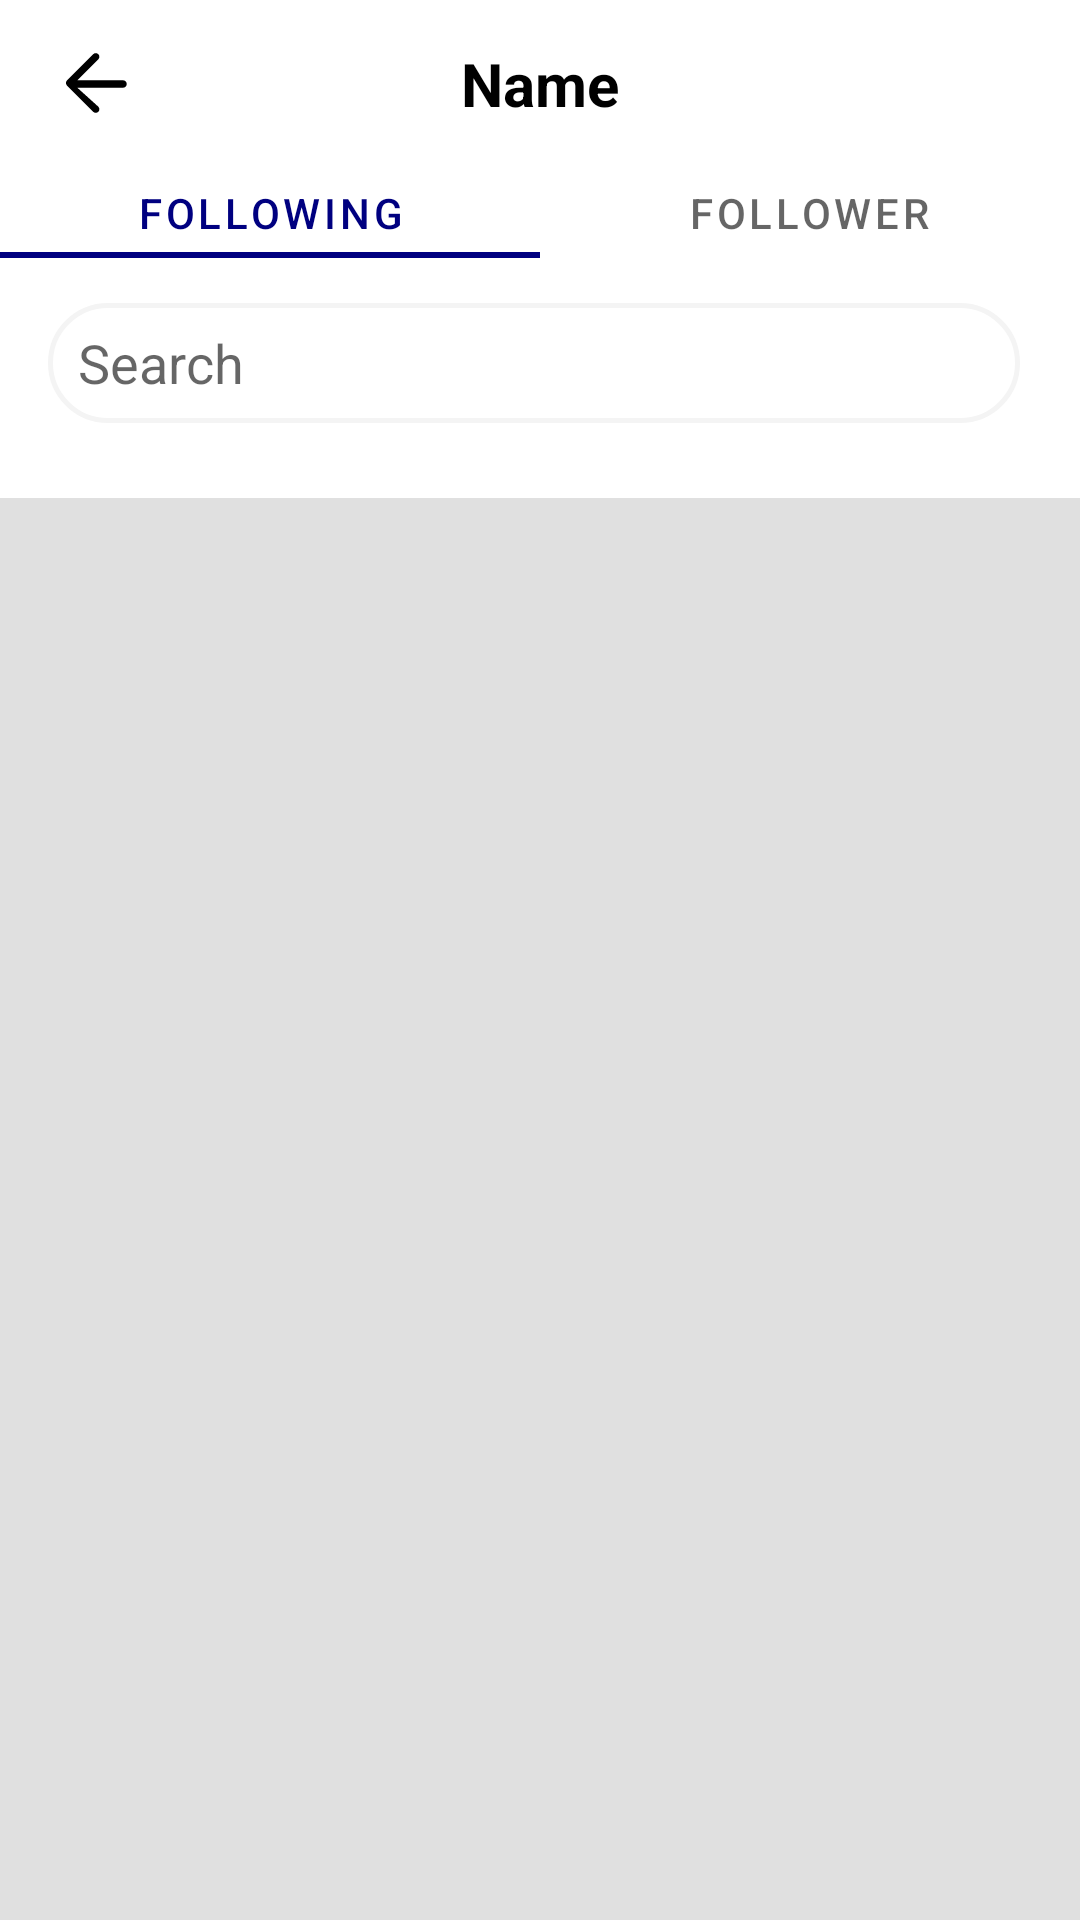

Named icons in this screenshot (1080px×1920px) and their centers, point (x, y):
arrow back: point (96, 83)
